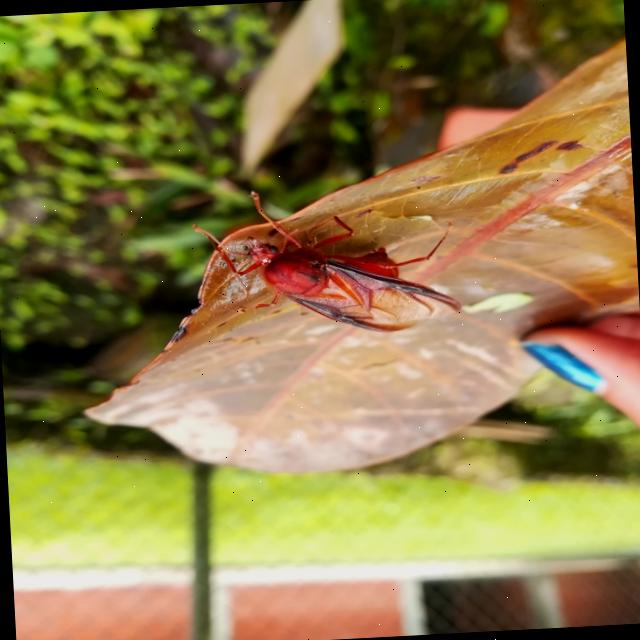Alive-Male-Alate: (189, 180, 464, 343)
